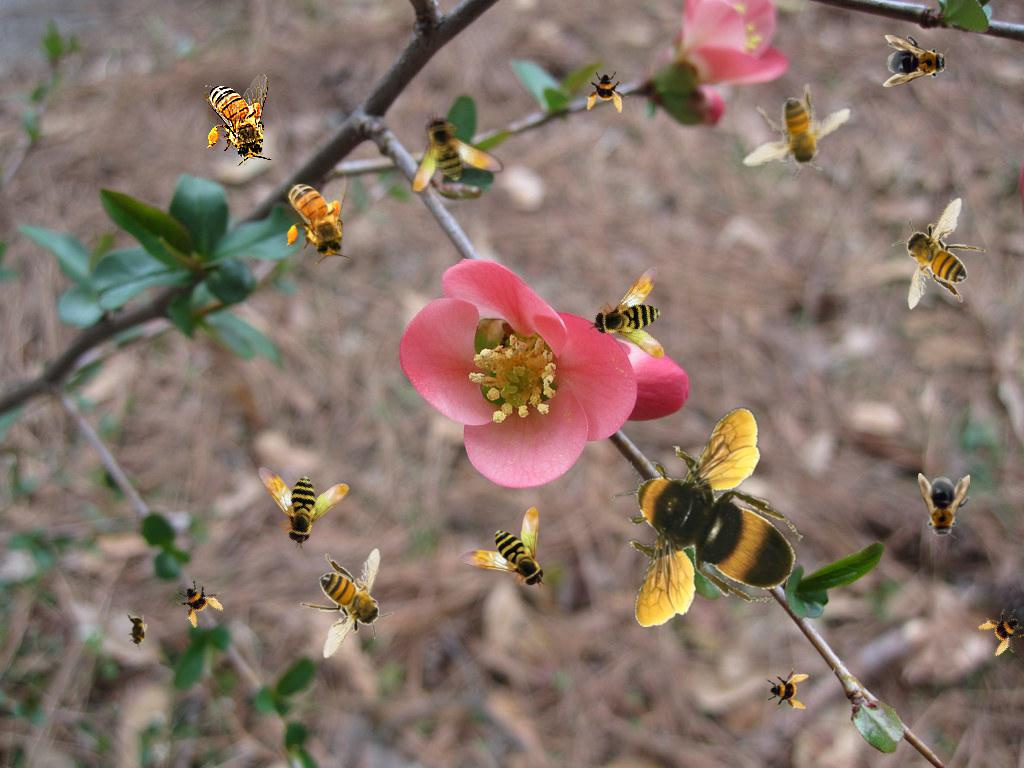Bee: (612, 407, 803, 627), (722, 61, 865, 207), (236, 431, 358, 553), (585, 250, 701, 368), (403, 110, 513, 218), (890, 195, 989, 311), (300, 548, 394, 659), (458, 507, 546, 589), (283, 171, 351, 264), (204, 73, 272, 166), (168, 570, 230, 632), (918, 473, 970, 541), (883, 35, 951, 87), (974, 601, 1024, 663), (585, 69, 629, 113), (765, 667, 809, 711), (126, 611, 148, 651)
